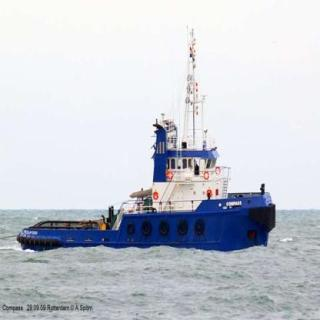Tug Boat: (22, 33, 278, 251)
